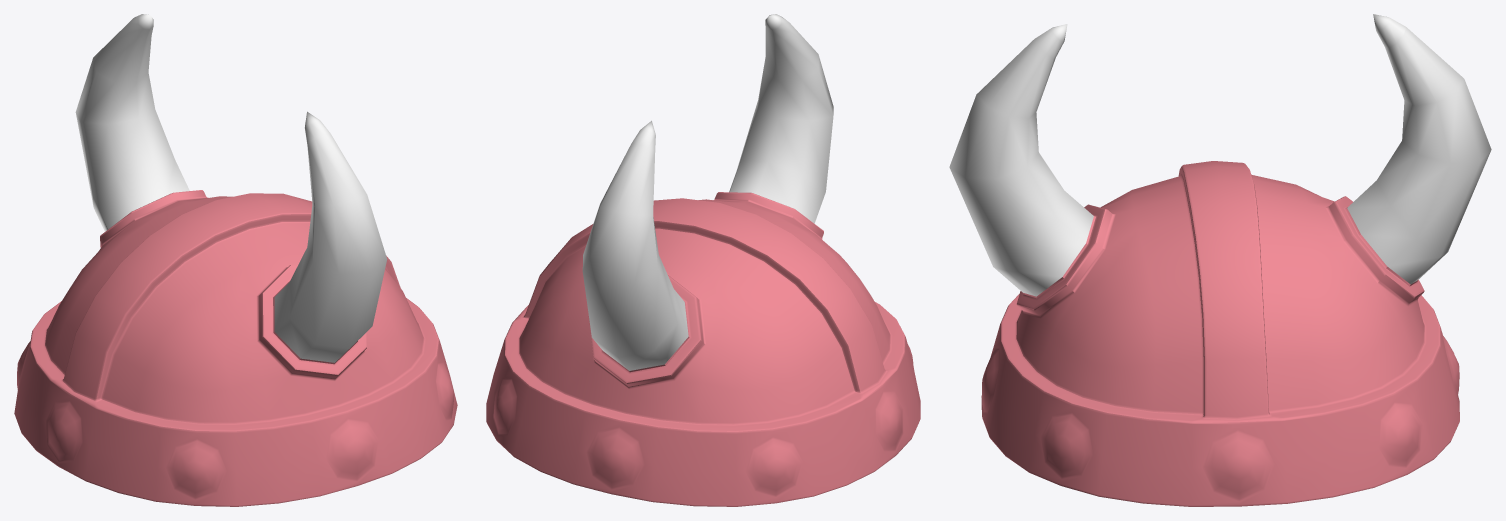
The model's file is Viking_helmetUVDone.fbx.
3 views of the same model, side by side, from view 1: azimuth 30°, elevation 25°; view 2: azimuth 150°, elevation 25°; view 3: azimuth 270°, elevation 25° (orthographic). The views are drawn at different scales.
Visible parts, largest first — view 1: Helmet_Viking; view 2: Helmet_Viking; view 3: Helmet_Viking.
Part boxes in pixels (x1,y1,x2,y2): Helmet_Viking: (14, 14, 457, 506); Helmet_Viking: (486, 14, 920, 506); Helmet_Viking: (949, 14, 1491, 506).
Bounding box in the file's own units: 41.23 × 37.37 × 46.71.
